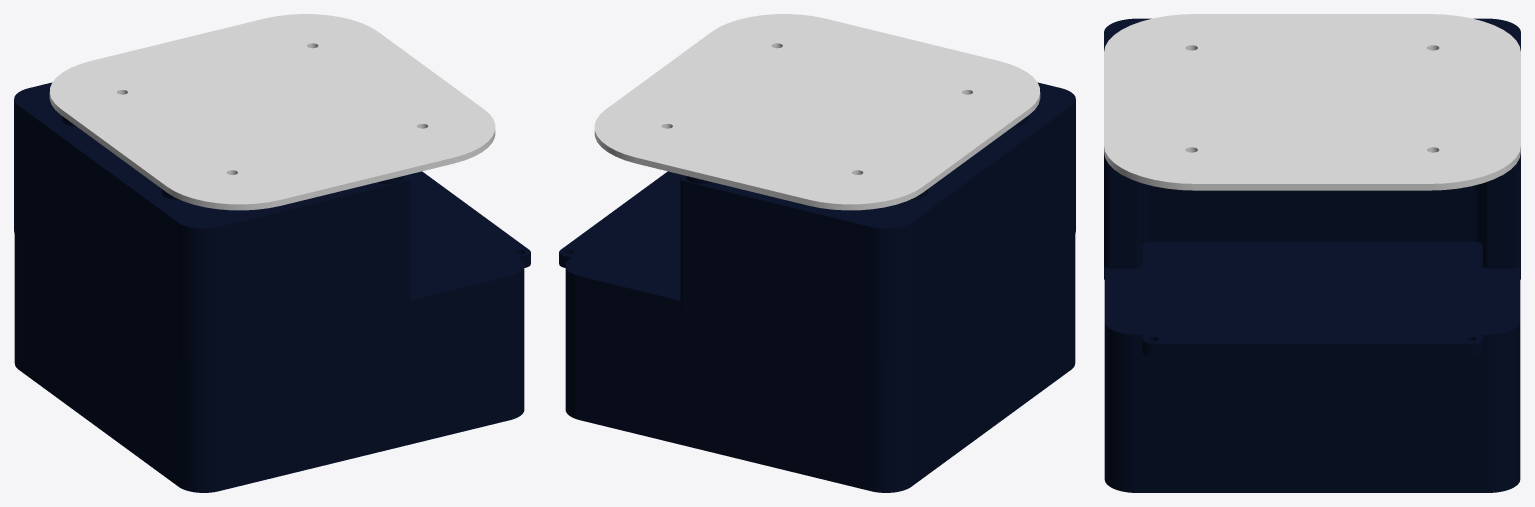
The model's file is frontier_mount_v6.dae.
The picture shows the model from 3 angles, left to right: view 1: azimuth 30°, elevation 25°; view 2: azimuth 150°, elevation 25°; view 3: azimuth 270°, elevation 25°; orthographic projection. The views are drawn at different scales.
Parts seen in each view (by area): view 1: 62c5c8127bf2d46fa8783b89 (×2); view 2: 62c5c8127bf2d46fa8783b89 (×2); view 3: 62c5c8127bf2d46fa8783b89 (×2).
Boxes of the visible parts, x1=… form: 62c5c8127bf2d46fa8783b89 (×2): x1=14, y1=14, x2=530, y2=492; 62c5c8127bf2d46fa8783b89 (×2): x1=559, y1=14, x2=1075, y2=492; 62c5c8127bf2d46fa8783b89 (×2): x1=1104, y1=14, x2=1520, y2=492.
Bounding box in the file's own units: 0.1245 × 0.114 × 0.0917.
